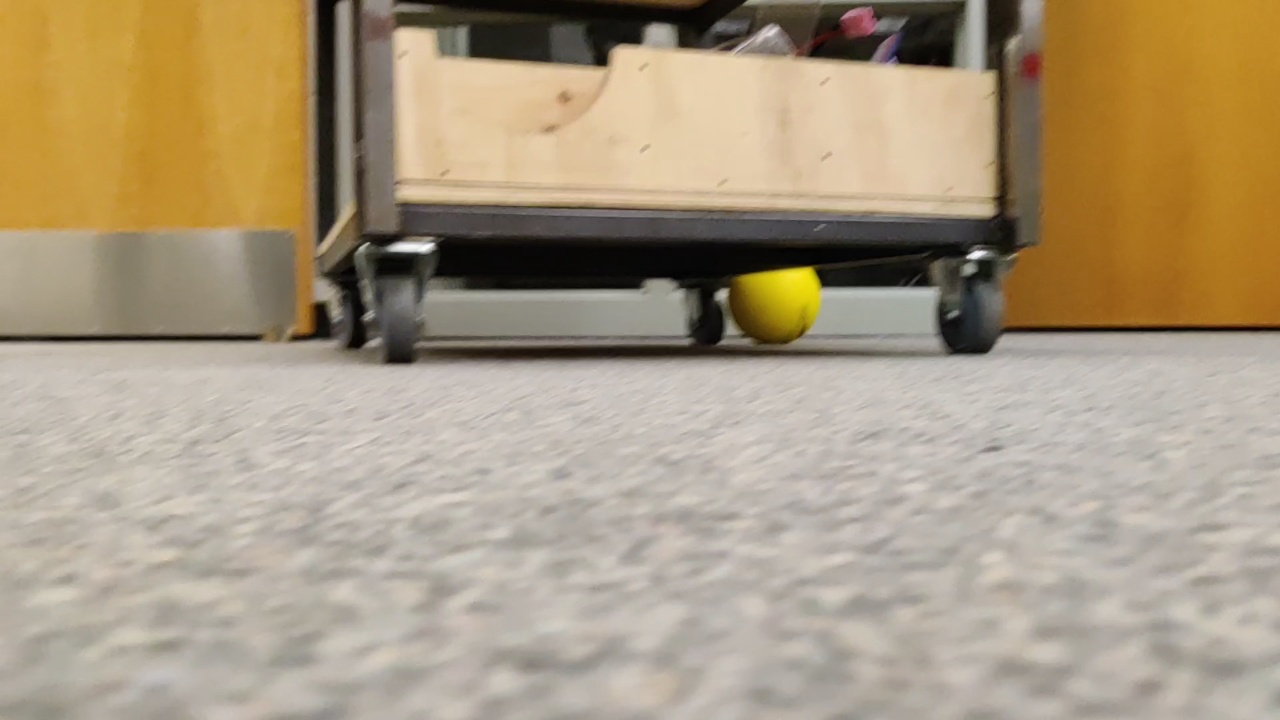Ball: (724, 266, 815, 353)
